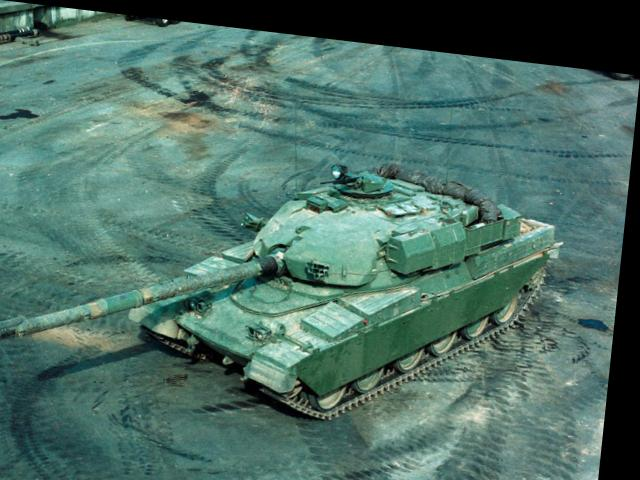tank: (160, 141, 544, 411)
